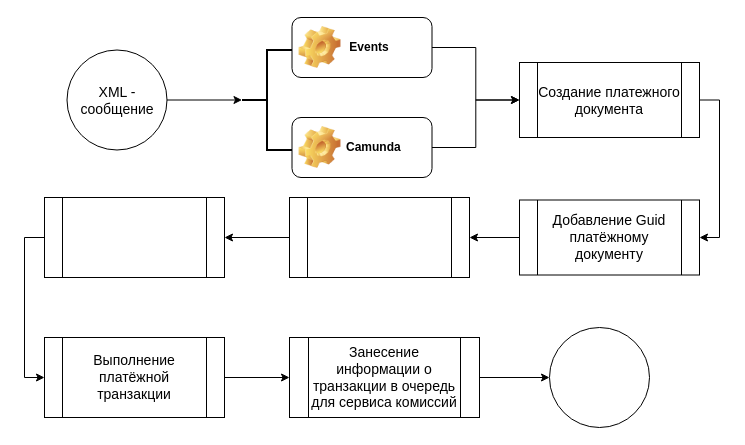
Image size: 745x445. Some labels were removed from this diagram. Each missing label, with the centre of its shape:
Активация платёжной транзакции: (x=134, y=237)
Ответ пользователю: (x=599, y=377)
Создание платёжной транзакции: (x=379, y=237)
